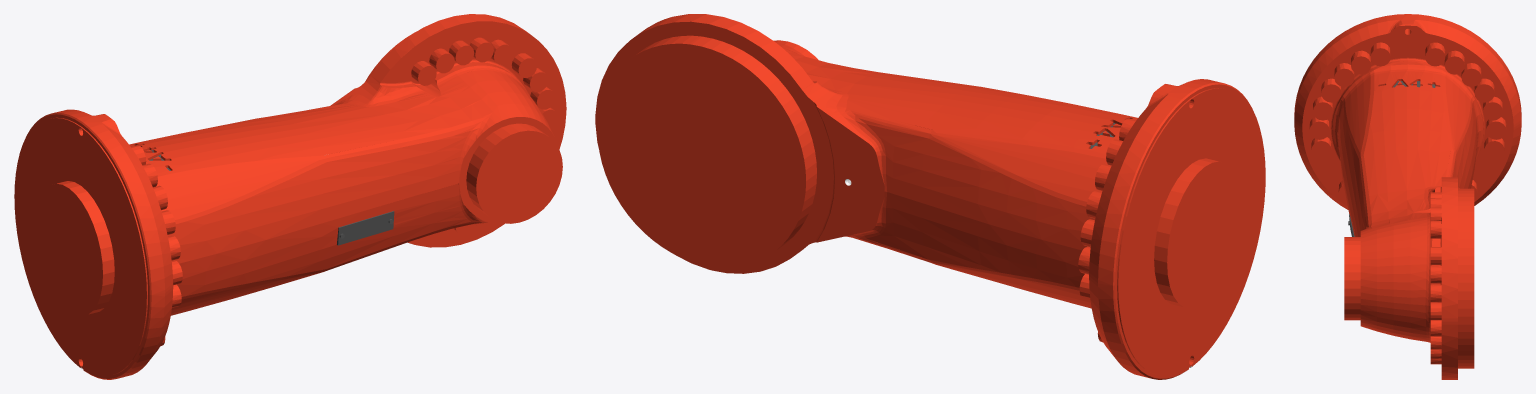
The picture shows the model from 3 angles, left to right: view 1: azimuth 30°, elevation 25°; view 2: azimuth 150°, elevation 25°; view 3: azimuth 270°, elevation 25°; orthographic projection. The views are drawn at different scales.
Visible parts, largest first — view 1: link_4; view 2: link_4; view 3: link_4.
Part boxes in pixels (<box>): link_4: <box>14,14,566,379</box>; link_4: <box>595,14,1265,379</box>; link_4: <box>1294,14,1521,379</box>.
Bounding box in the file's own units: 0.4416 × 0.202 × 0.202.
